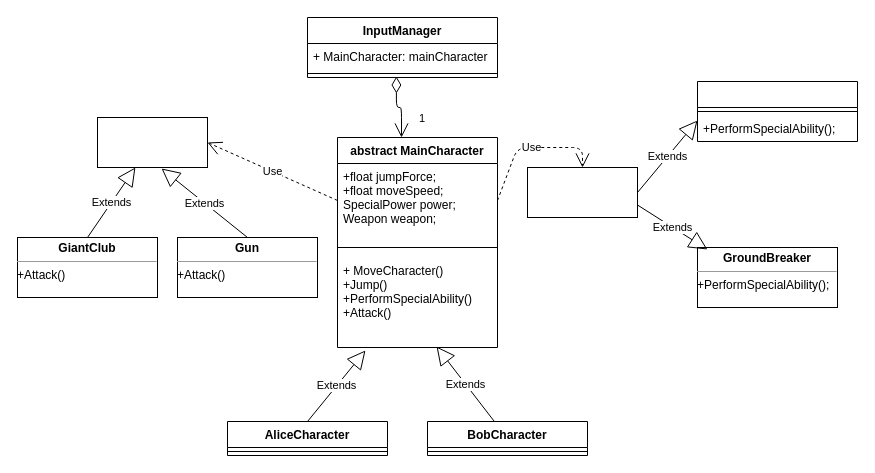
Image size: 875x473. Some labels were removed from this diagram. The box of each missing label's shape, as (x1, y1, x2, y2) in pixels:
ForwardDash: (696, 80, 858, 142)
«interface» SpecialPower: (526, 166, 638, 218)
«interface» WeaponBehavior: (96, 116, 208, 168)
